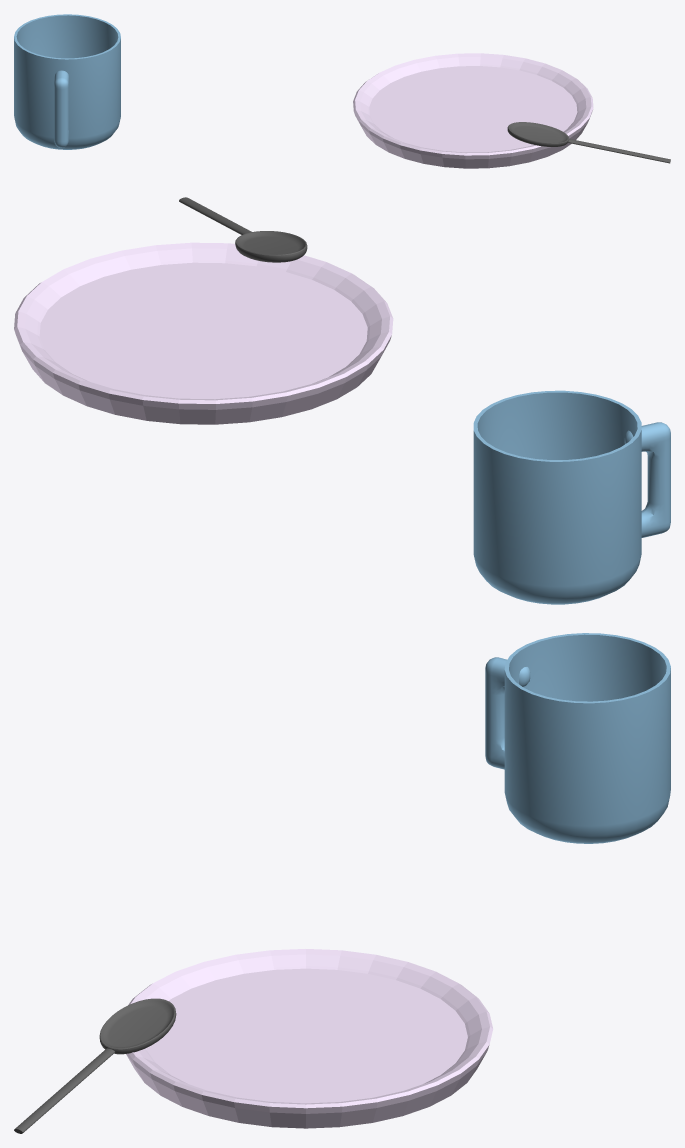
File: dishes_02.glb
3 views of the same model, one above another, from view 1: azimuth 30°, elevation 25°; view 2: azimuth 150°, elevation 25°; view 3: azimuth 270°, elevation 25° (orthographic). The views are drawn at different scales.
Parts seen in each view (by area): view 1: Cylinder.117; view 2: Cylinder.117; view 3: Cylinder.117.
Boxes of the visible parts, x1,y1,x2,y2 form: Cylinder.117: (14, 14, 670, 168); Cylinder.117: (14, 197, 670, 604); Cylinder.117: (14, 633, 670, 1133).
Bounding box in the file's own units: 0.3525 × 0.0698 × 0.2756.
